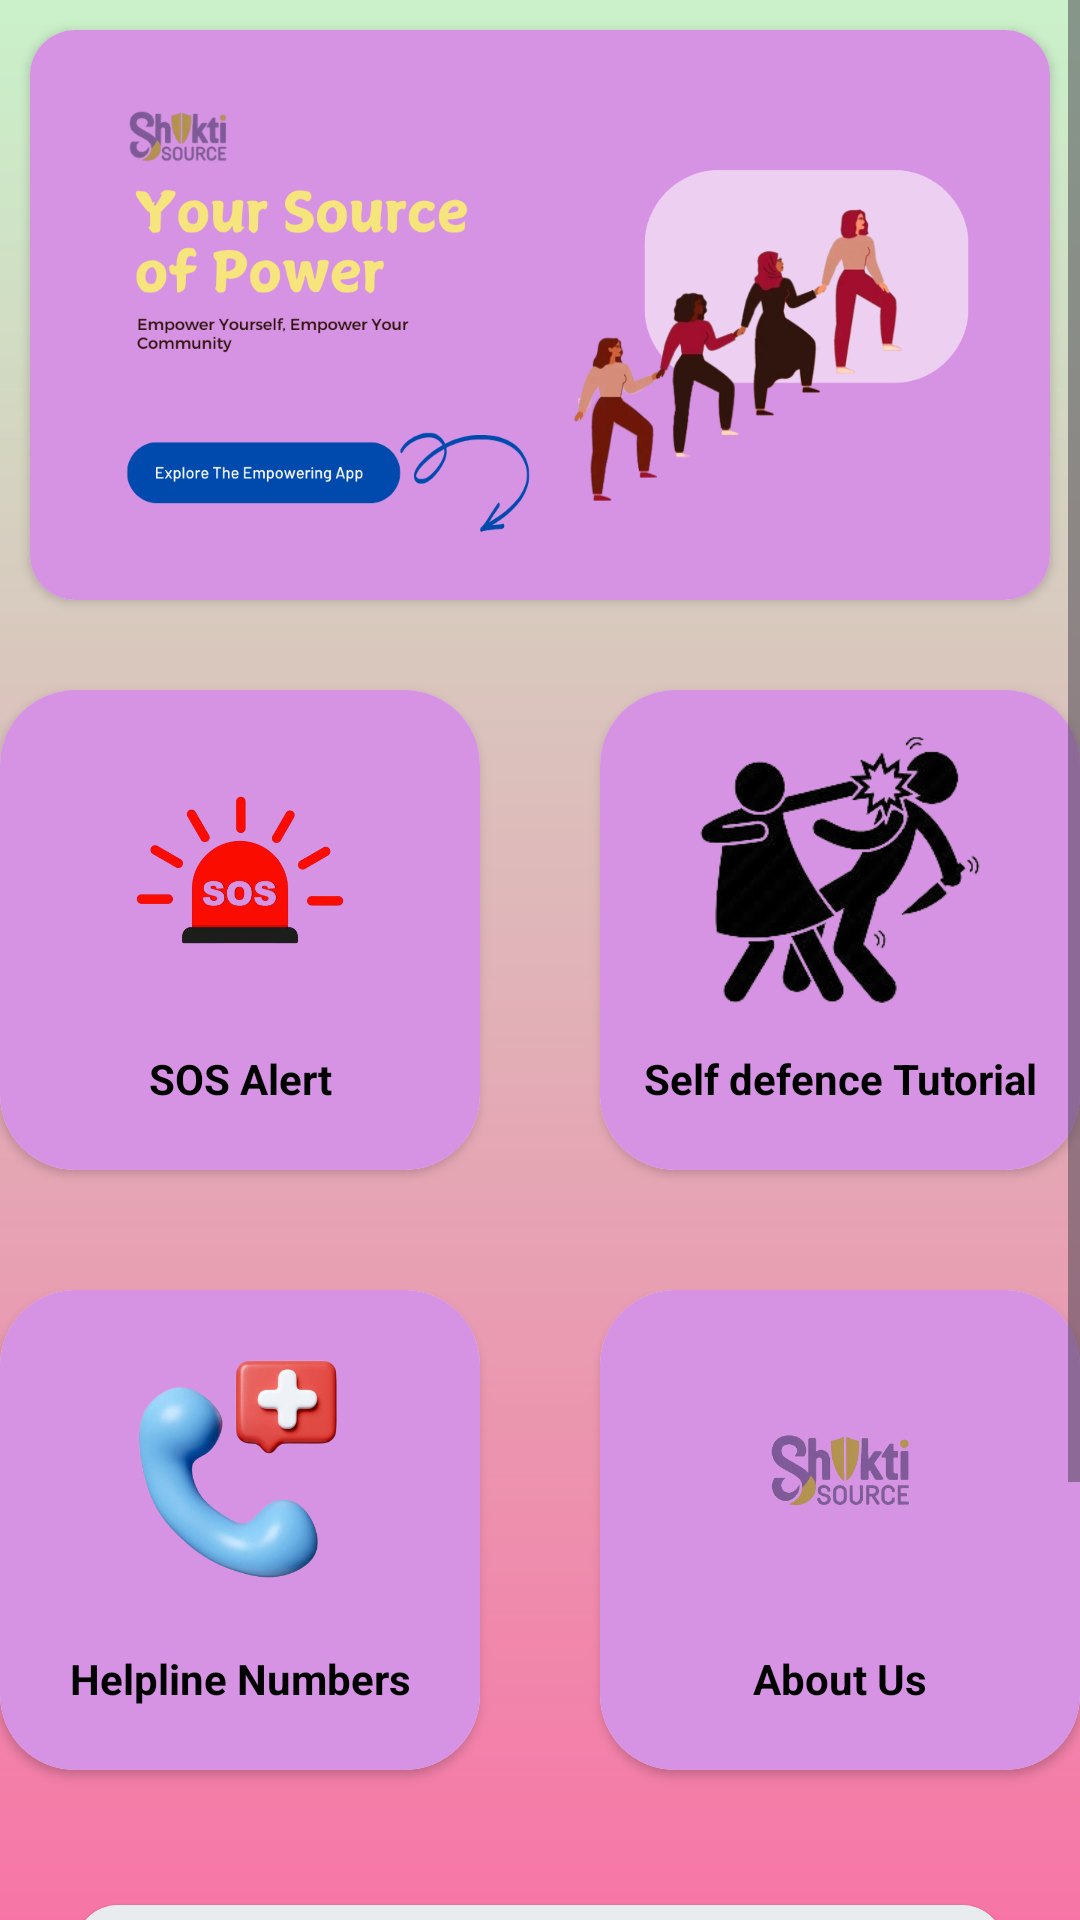

Locate icon controls on the screen. Image size 1080w x 1920h, boxes as detection(x1, y1, x2, y2).
emergency helpline: detection(139, 1361, 337, 1578)
